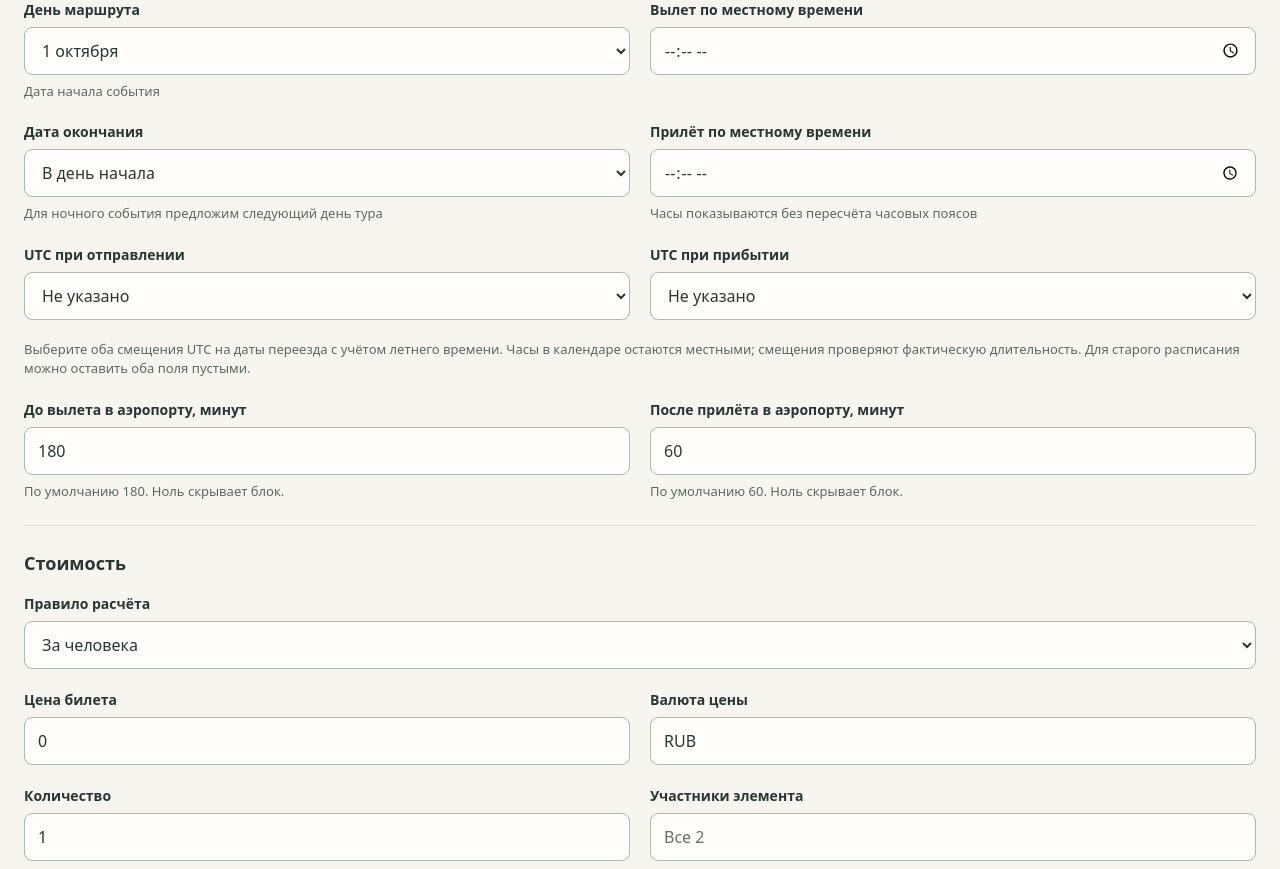
Test: invalid post-arrival duration marks the post-arrival field
The width and height of the screenshot is (1280, 869).
(page scrolled)
Replace the text in the number field labelled "После прилёта в аэропорту, минут" with "1441" at (953,450), box [650,426,1256,474]
(page scrolled)
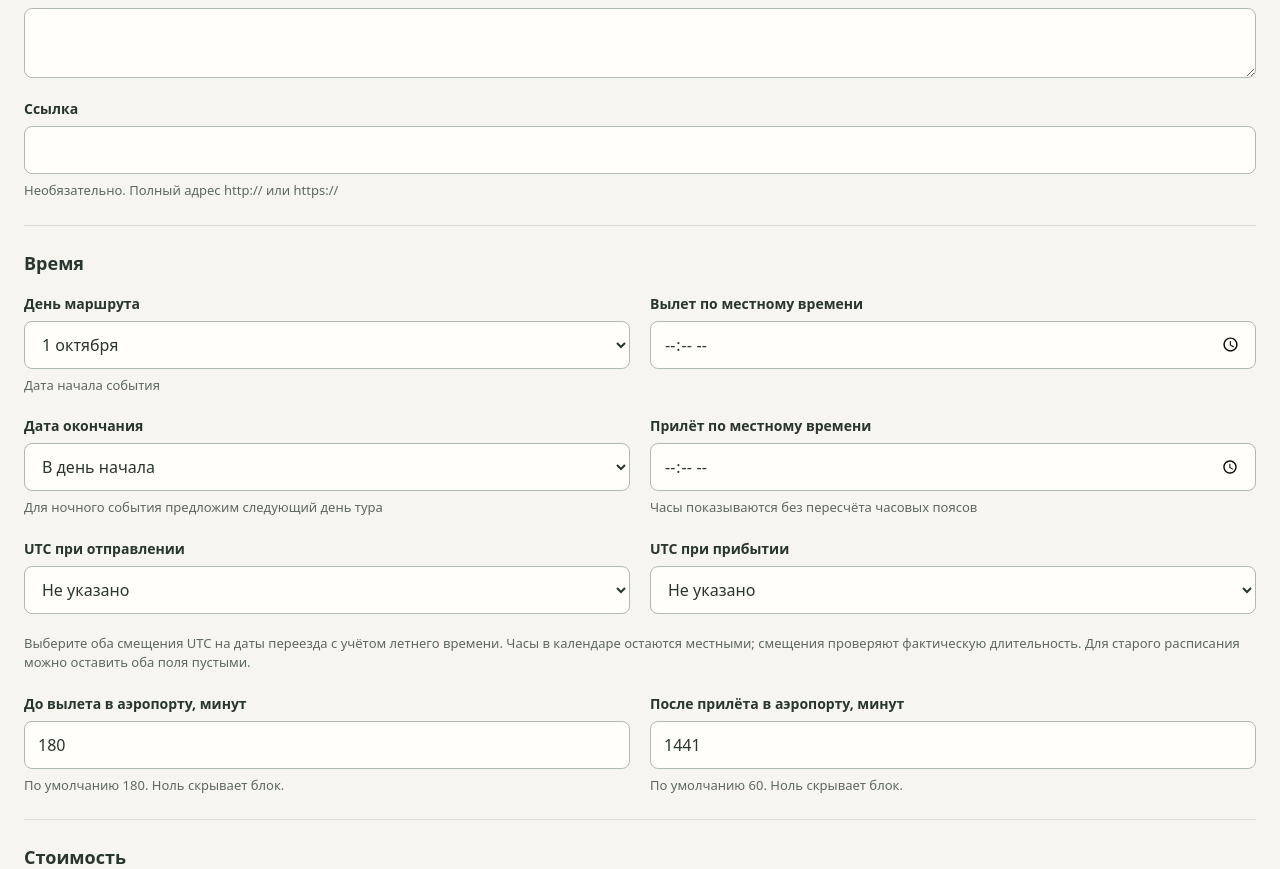
Submit the form
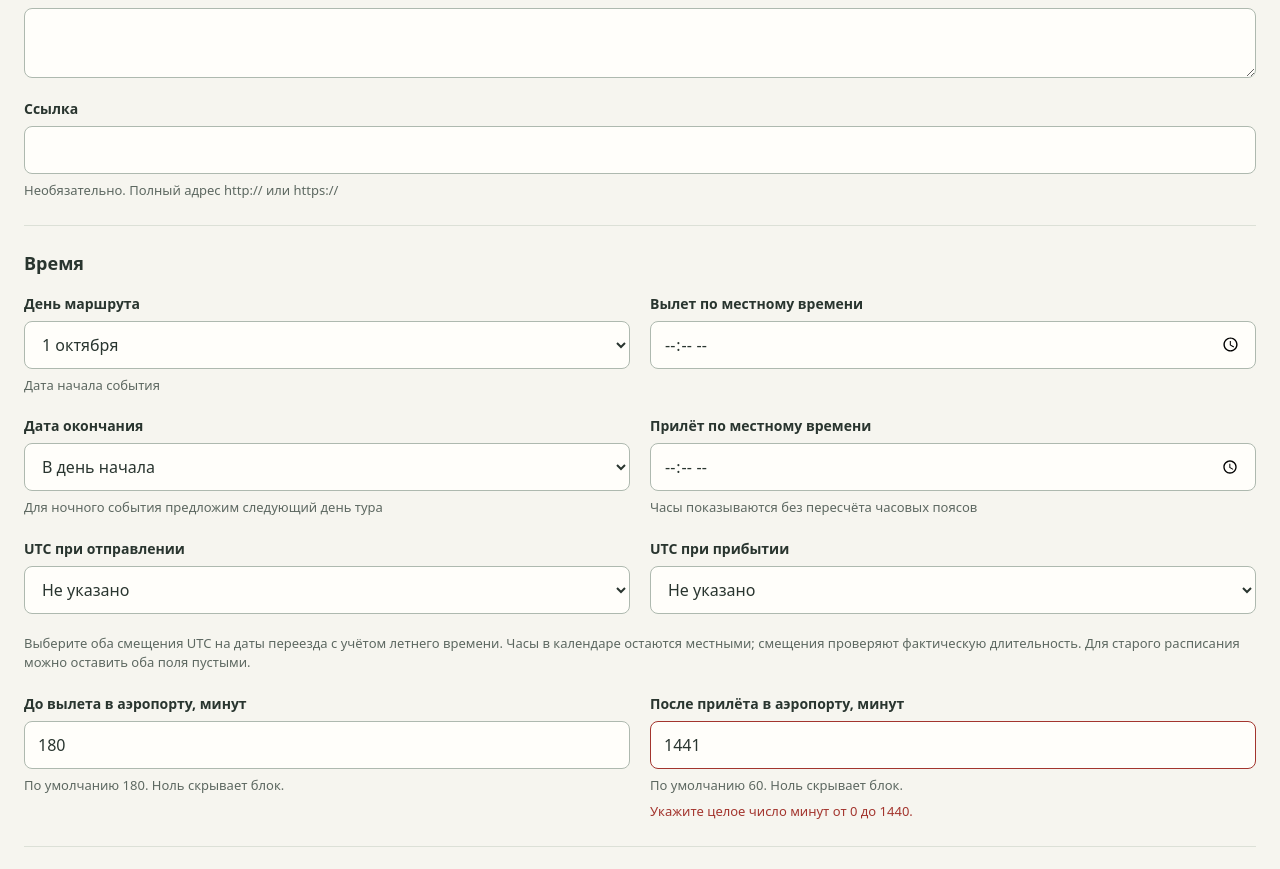
Expected: the message shows "от 0 до 1440", [650,802,913,820]
